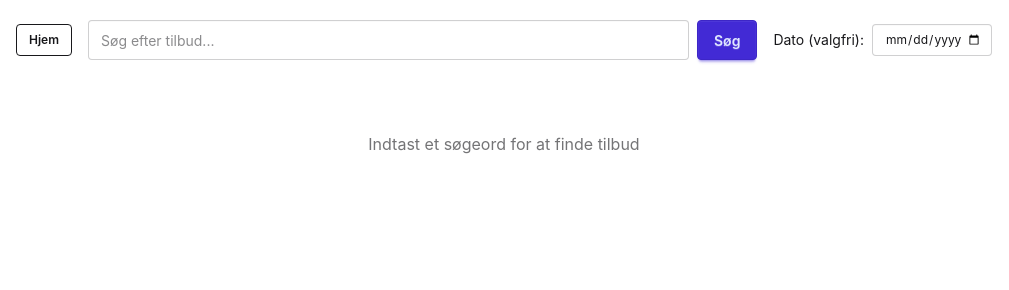
it: SearchPage › excludes a chain when Fravælg button is clicked
Type "test" into the field with placeholder "Søg efter tilbud...". click: (388, 40)
box: [88, 20, 689, 60]
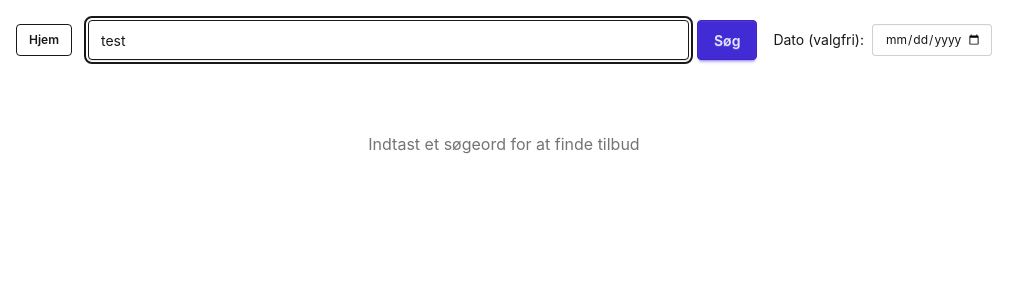
Click the button "Søg". click: (727, 40)
box: [697, 20, 757, 60]
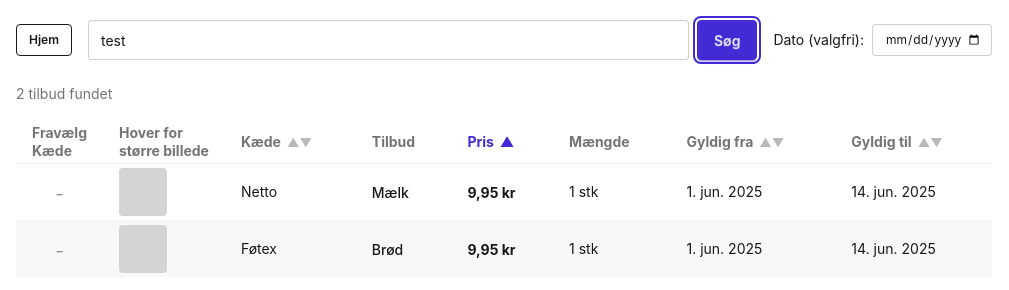
Expected: the text "Mælk" is shown, [372, 184, 409, 200]
Click the button titled "Skjul Netto" in the row of "Netto". click: (60, 194)
box: [50, 187, 69, 201]
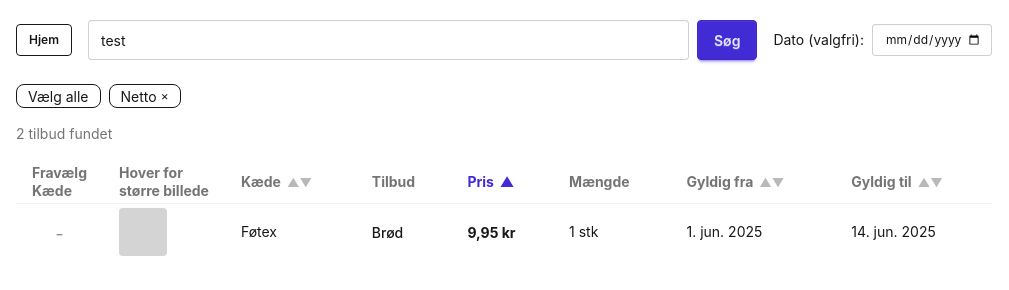
Expected: the text "Brød" is shown, [372, 224, 403, 240]
Expected: the text "Mælk" is gone
Expected: the text "Netto" is shown, [120, 88, 157, 104]
